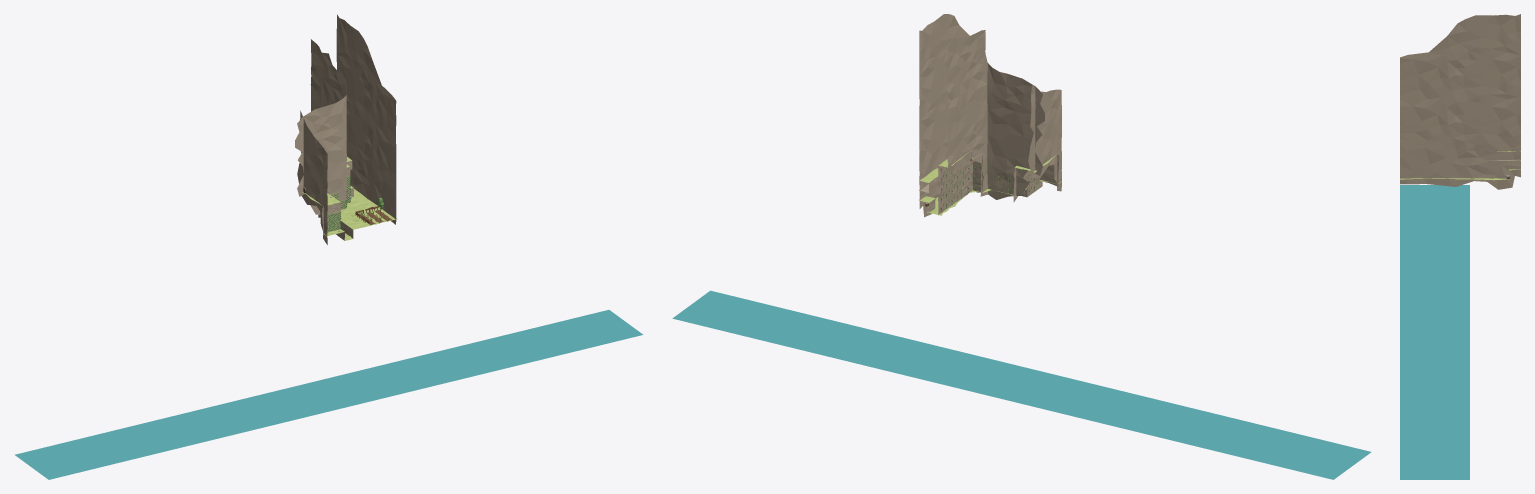
3 views of the same model, side by side, from view 1: azimuth 30°, elevation 25°; view 2: azimuth 150°, elevation 25°; view 3: azimuth 270°, elevation 25° (orthographic). The views are drawn at different scales.
Parts seen in each view (by area): view 1: 2.001; view 2: 2.001; view 3: 2.001.
Part boxes in pixels (x1=…): 2.001: x1=14, y1=14, x2=643, y2=479; 2.001: x1=672, y1=14, x2=1371, y2=479; 2.001: x1=1400, y1=14, x2=1520, y2=479.
Size of the model in its own units: 69.31 by 37.6 by 12.
1 material, 1 textured.
